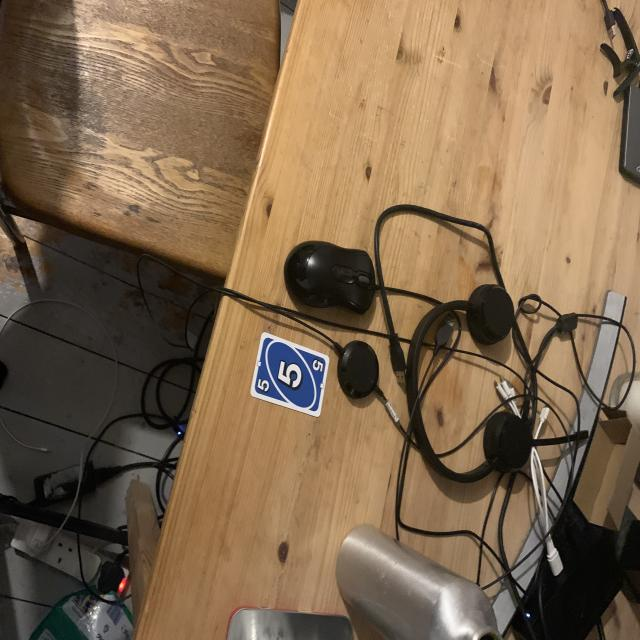lblue-5: (252, 375, 272, 395)
